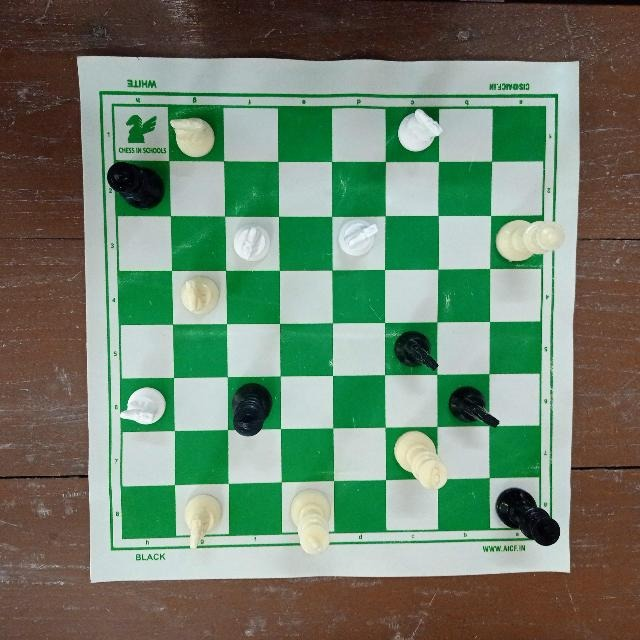black-king: (494, 485, 566, 551), (106, 157, 170, 212), (223, 379, 277, 444)
black-knight: (447, 383, 501, 431), (387, 327, 440, 372)
white-king: (394, 428, 452, 496), (289, 482, 335, 560)
white-knight: (177, 488, 227, 554), (167, 110, 218, 160), (395, 105, 443, 155), (335, 214, 384, 261), (120, 382, 166, 430), (177, 272, 221, 322), (230, 218, 274, 266)
white-queen: (493, 218, 571, 266)
